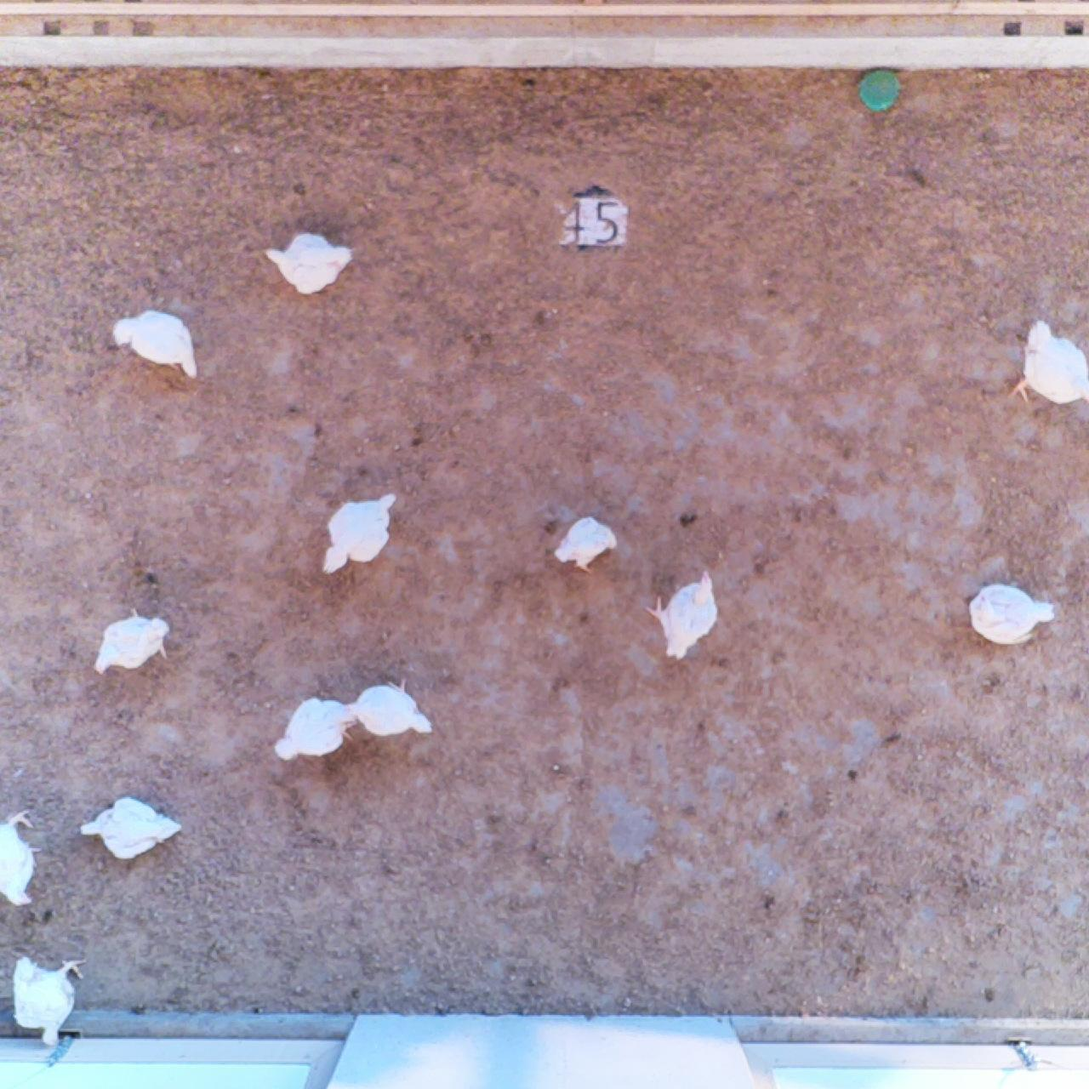chicken: (81, 795, 181, 859), (11, 955, 82, 1043), (968, 583, 1057, 648), (326, 491, 397, 572), (1018, 322, 1085, 407), (265, 232, 355, 295), (116, 311, 197, 380), (653, 572, 716, 658), (343, 679, 432, 738), (276, 698, 351, 761), (97, 616, 169, 671), (1, 811, 42, 904), (556, 516, 618, 575)
